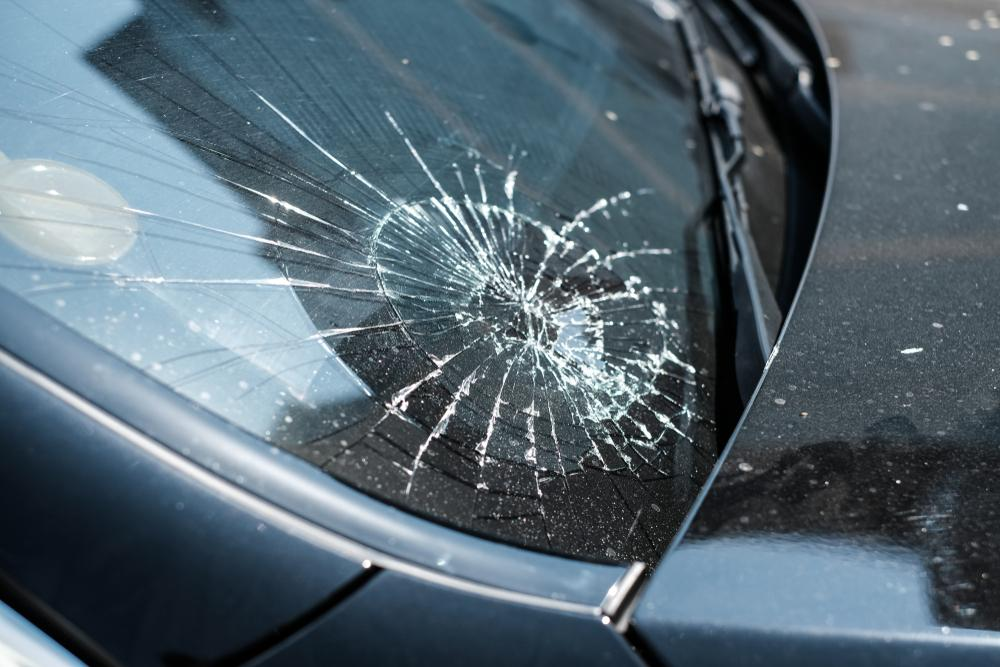glass shatter: (0, 0, 764, 564)
